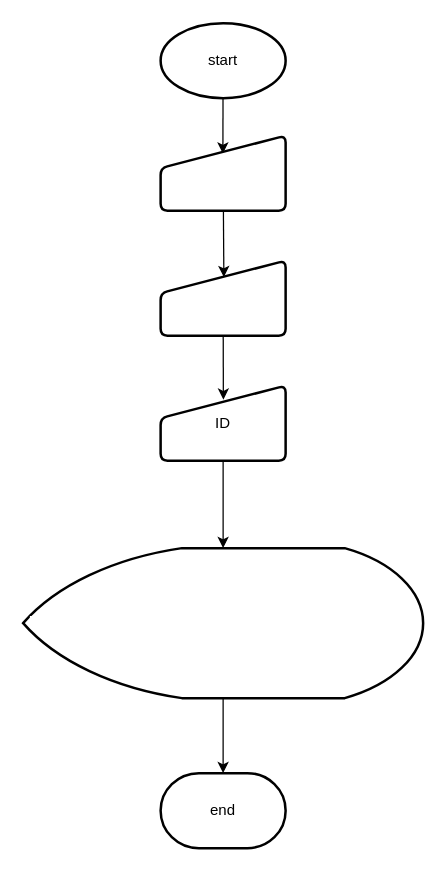
This 445x870 diagram has some shape labels left out. The shapes that lost their labels are listed below. From the top down, each one's centre as x and y in pixels, then its label:
At [222,172]: "FirstName".
At [222,297]: "LastName".
